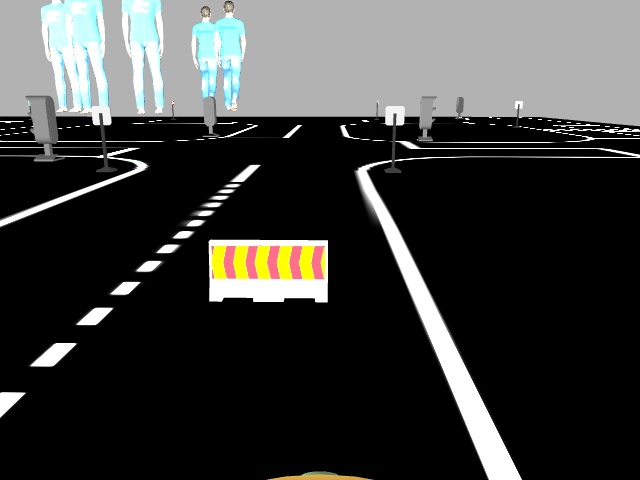ClosedRoadStand: (209, 240, 324, 298)
